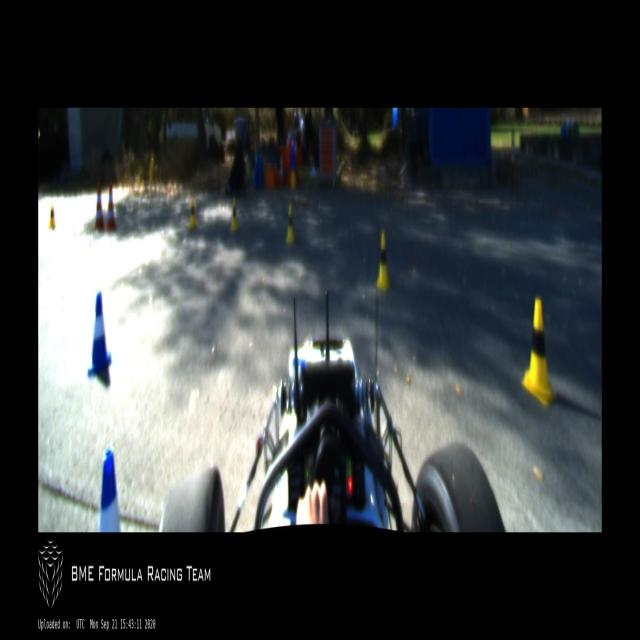blue_cone: (87, 292, 111, 376), (98, 450, 120, 531)
large_orange_cone: (105, 182, 116, 232), (93, 182, 104, 230)
yellow_cone: (522, 299, 556, 406), (376, 231, 391, 292), (285, 204, 295, 245), (229, 197, 238, 234), (188, 196, 196, 230), (49, 205, 56, 229)
